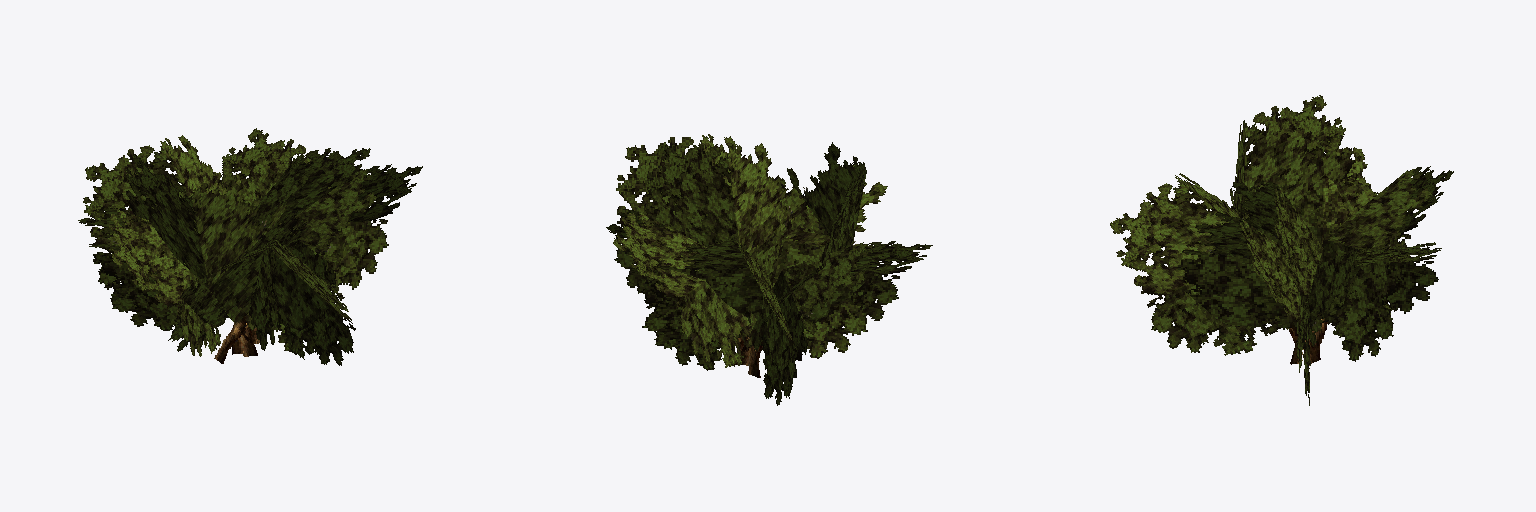
The picture shows the model from 3 angles: view 1: azimuth 30°, elevation 25°; view 2: azimuth 150°, elevation 25°; view 3: azimuth 270°, elevation 25°; orthographic projection.
Parts seen in each view (by area): view 1: mbushreg_1; view 2: mbushreg_1; view 3: mbushreg_1.
Boxes of the visible parts, x1=… form: mbushreg_1: x1=78, y1=128, x2=422, y2=365; mbushreg_1: x1=606, y1=134, x2=932, y2=405; mbushreg_1: x1=1110, y1=95, x2=1453, y2=405.
Bounding box in the file's own units: 4.75 × 3.87 × 4.57.
Materials: 1 (1 with a texture image).